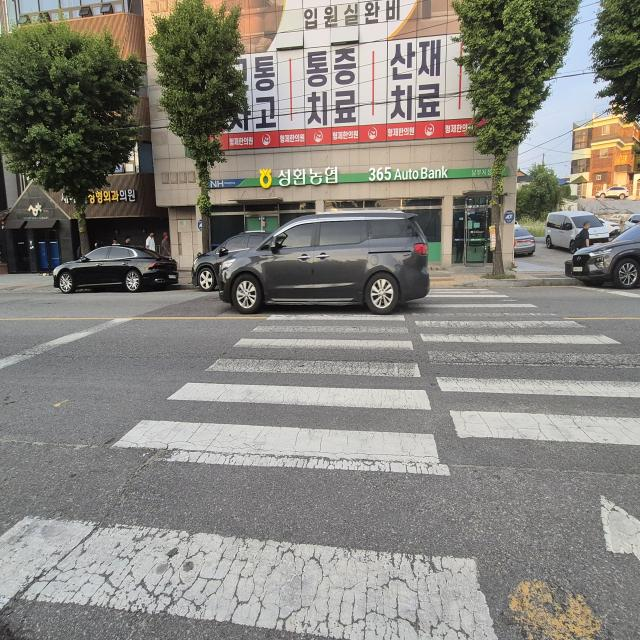car: (220, 207, 434, 319), (54, 244, 182, 294), (564, 211, 638, 289), (193, 233, 270, 293), (544, 210, 617, 250), (506, 218, 541, 263), (595, 185, 629, 199)
